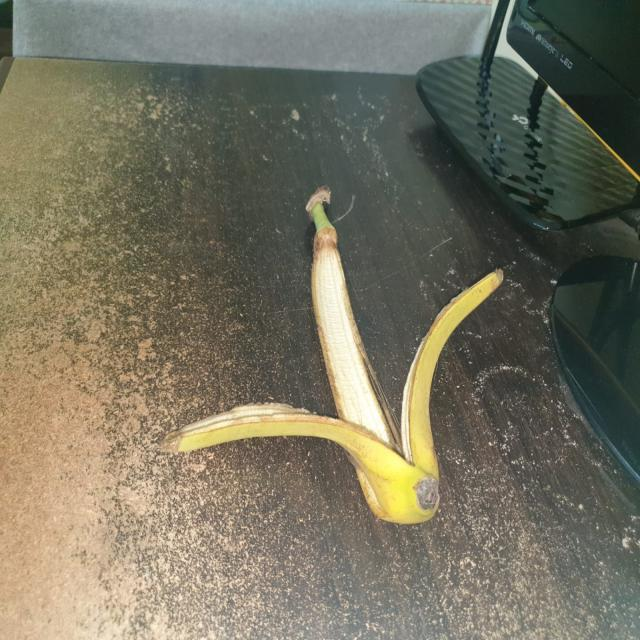banana-peel: (158, 184, 504, 525)
